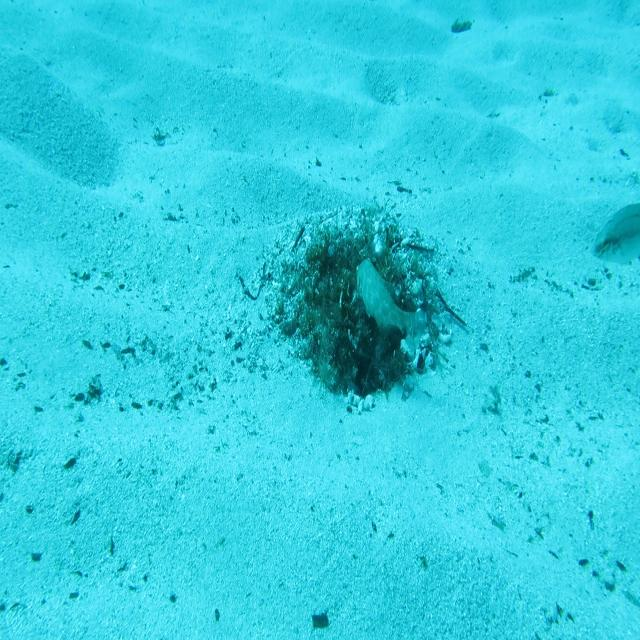FAN: (353, 254, 430, 358)
core_nest: (331, 250, 364, 275)
female: (589, 200, 640, 268)
nest: (262, 190, 458, 428)
vegetation: (448, 20, 475, 36), (312, 611, 329, 629)
